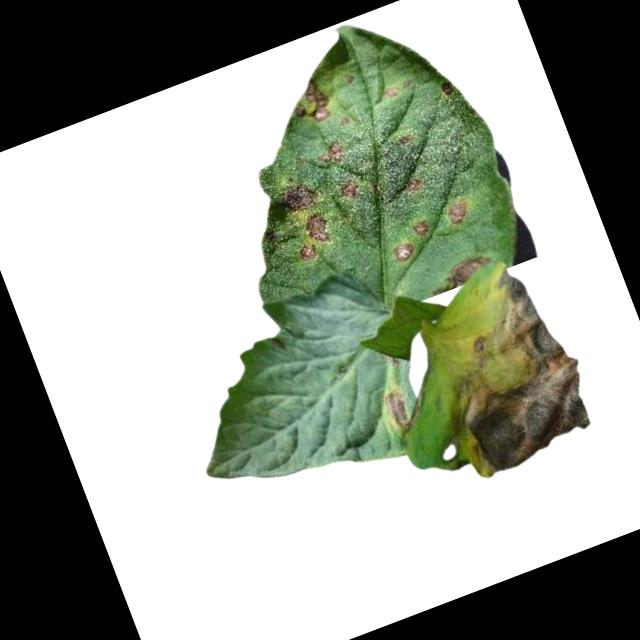Early_blight: (398, 255, 605, 486), (423, 245, 497, 294), (280, 71, 336, 132), (275, 178, 323, 216), (379, 380, 414, 431), (301, 208, 333, 248), (313, 136, 350, 170), (387, 236, 418, 266), (443, 195, 472, 226), (336, 178, 361, 203), (400, 173, 423, 195), (380, 81, 400, 101), (295, 243, 316, 262), (410, 217, 429, 236), (398, 129, 416, 146)
